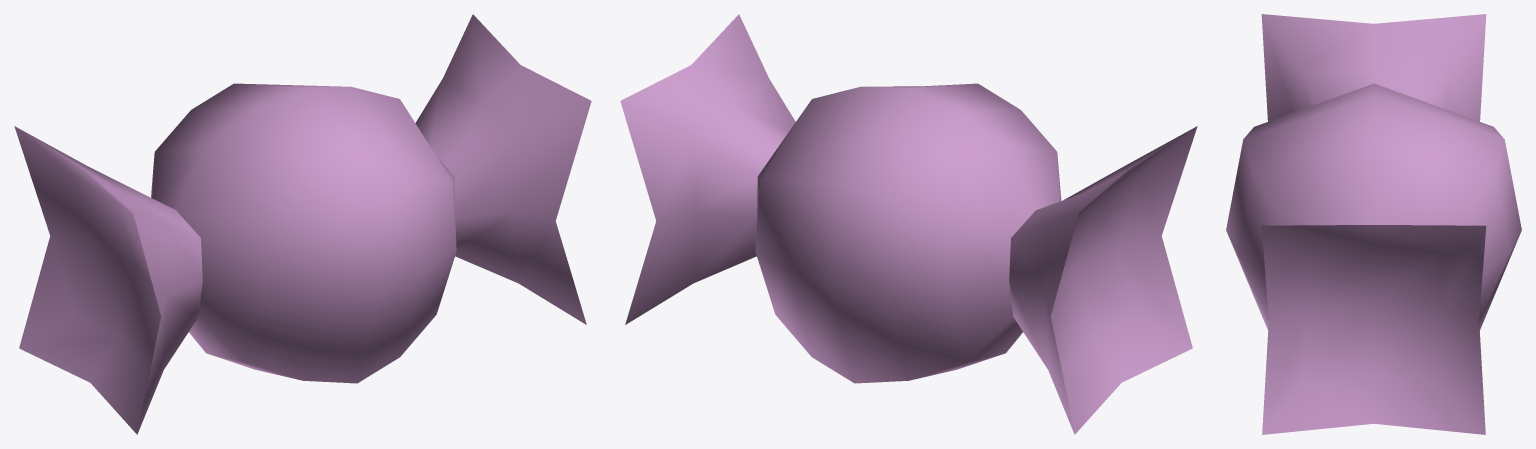
Rendered from Candy_Pumpkin.fbx.
3 views of the same model, side by side, from view 1: azimuth 30°, elevation 25°; view 2: azimuth 150°, elevation 25°; view 3: azimuth 270°, elevation 25° (orthographic). The views are drawn at different scales.
Parts seen in each view (by area): view 1: Candy_Pumpkin; view 2: Candy_Pumpkin; view 3: Candy_Pumpkin.
Boxes of the visible parts, bbox=[...] form: Candy_Pumpkin: bbox=[14, 14, 591, 434]; Candy_Pumpkin: bbox=[620, 14, 1197, 434]; Candy_Pumpkin: bbox=[1226, 14, 1521, 434].
Size of the model in its own units: 280 by 165 by 166.
Materials: 1 (1 with a texture image).
